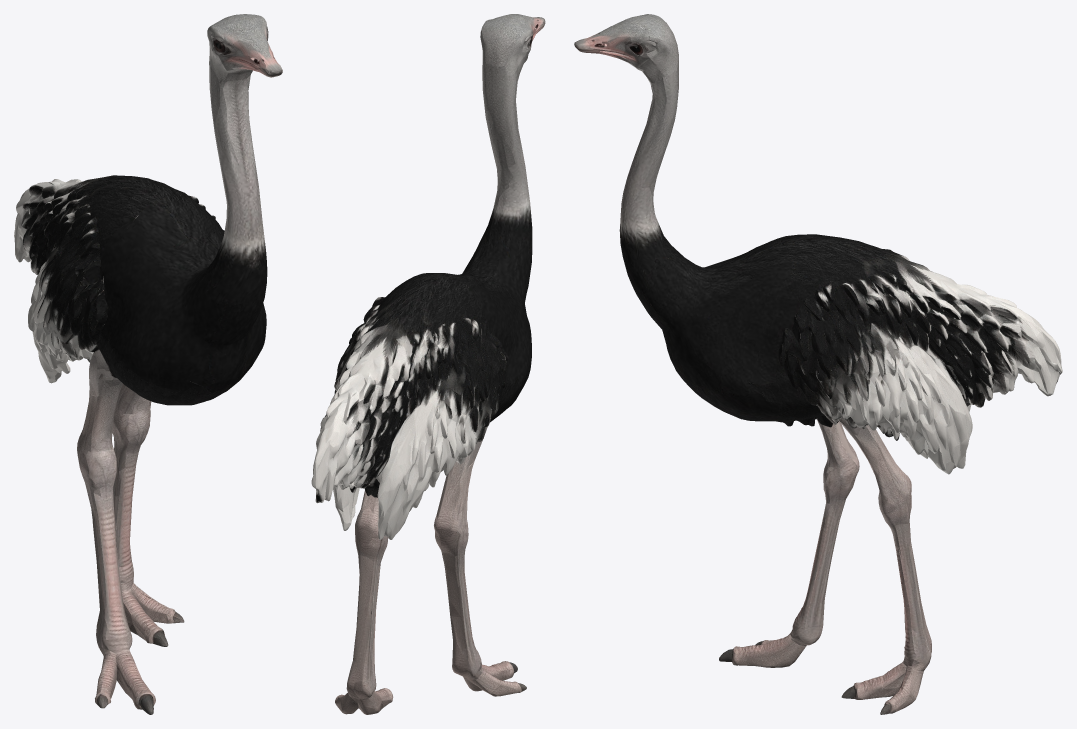
File: common-ostrich.glb
The picture shows the model from 3 angles, left to right: view 1: azimuth 30°, elevation 25°; view 2: azimuth 150°, elevation 25°; view 3: azimuth 270°, elevation 25°; orthographic projection. The views are drawn at different scales.
Size of the model in its own units: 0.4844 by 1.9 by 1.27.
Materials: 1 (1 with a texture image).
